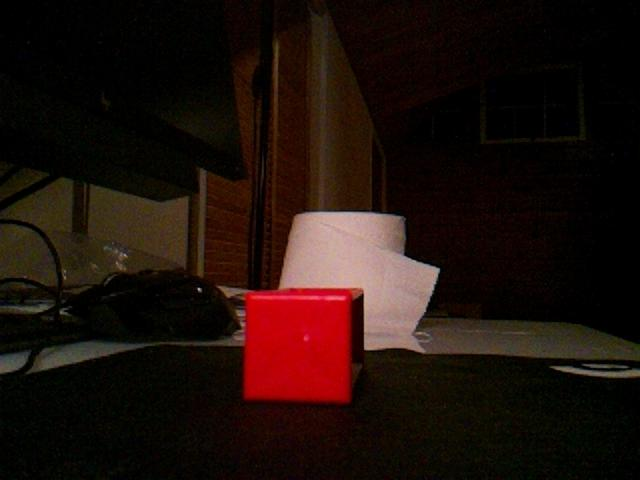red: (241, 287, 360, 405)
